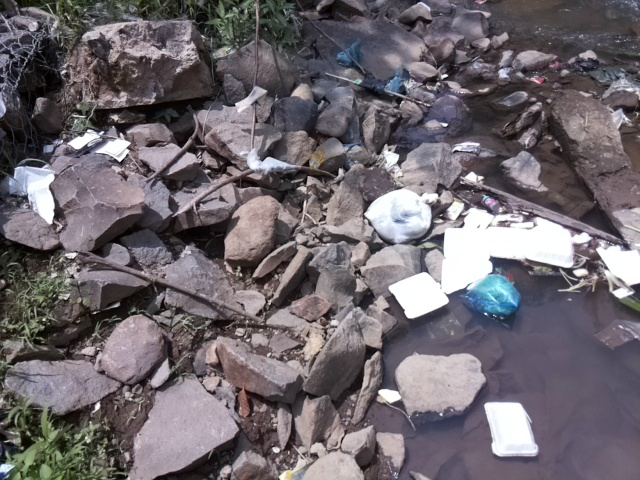Sampah_Botol_Plastik: (478, 193, 506, 215)
Sampah_Plastik: (361, 187, 439, 246), (461, 271, 524, 325), (244, 148, 297, 175), (595, 318, 640, 348)
Sampah_Styrofoam: (440, 215, 577, 278), (482, 399, 542, 462), (8, 163, 61, 225), (386, 270, 447, 322), (593, 246, 640, 289)
